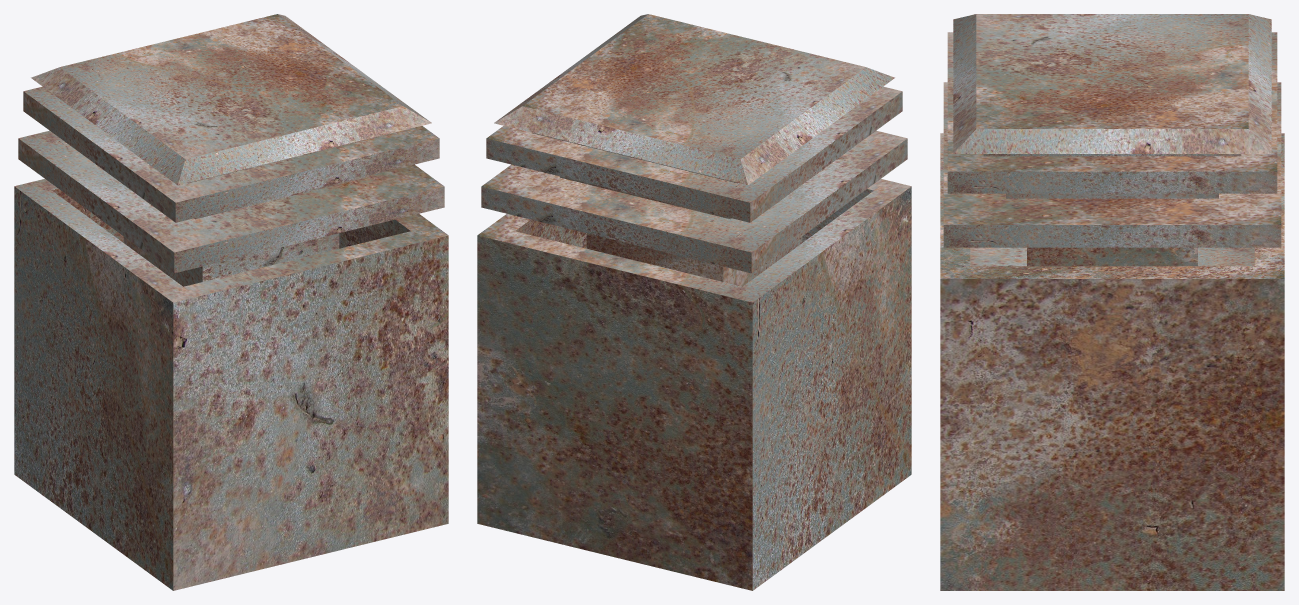
File: enginepart4.fbx
3 views of the same model, side by side, from view 1: azimuth 30°, elevation 25°; view 2: azimuth 150°, elevation 25°; view 3: azimuth 270°, elevation 25° (orthographic). The views are drawn at different scales.
Parts seen in each view (by area): view 1: enginepart4; view 2: enginepart4; view 3: enginepart4.
Boxes of the visible parts, x1,y1,x2,y2 form: enginepart4: (14,14,448,590); enginepart4: (477,14,911,590); enginepart4: (940,14,1284,590).
Size of the model in its own units: 144 by 206 by 144.
Materials: 1 (1 with a texture image).
